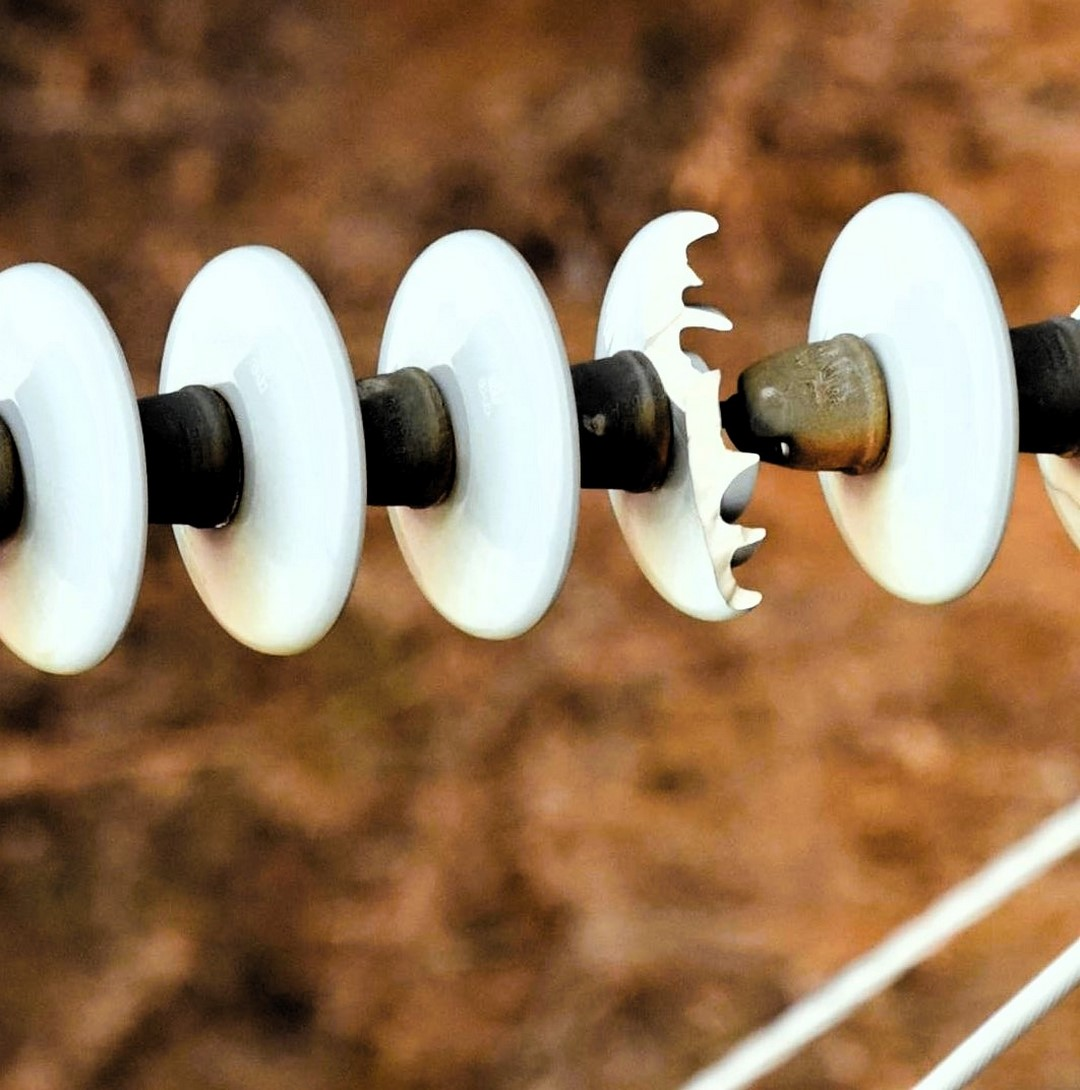insulator breakage: (592, 186, 794, 651)
